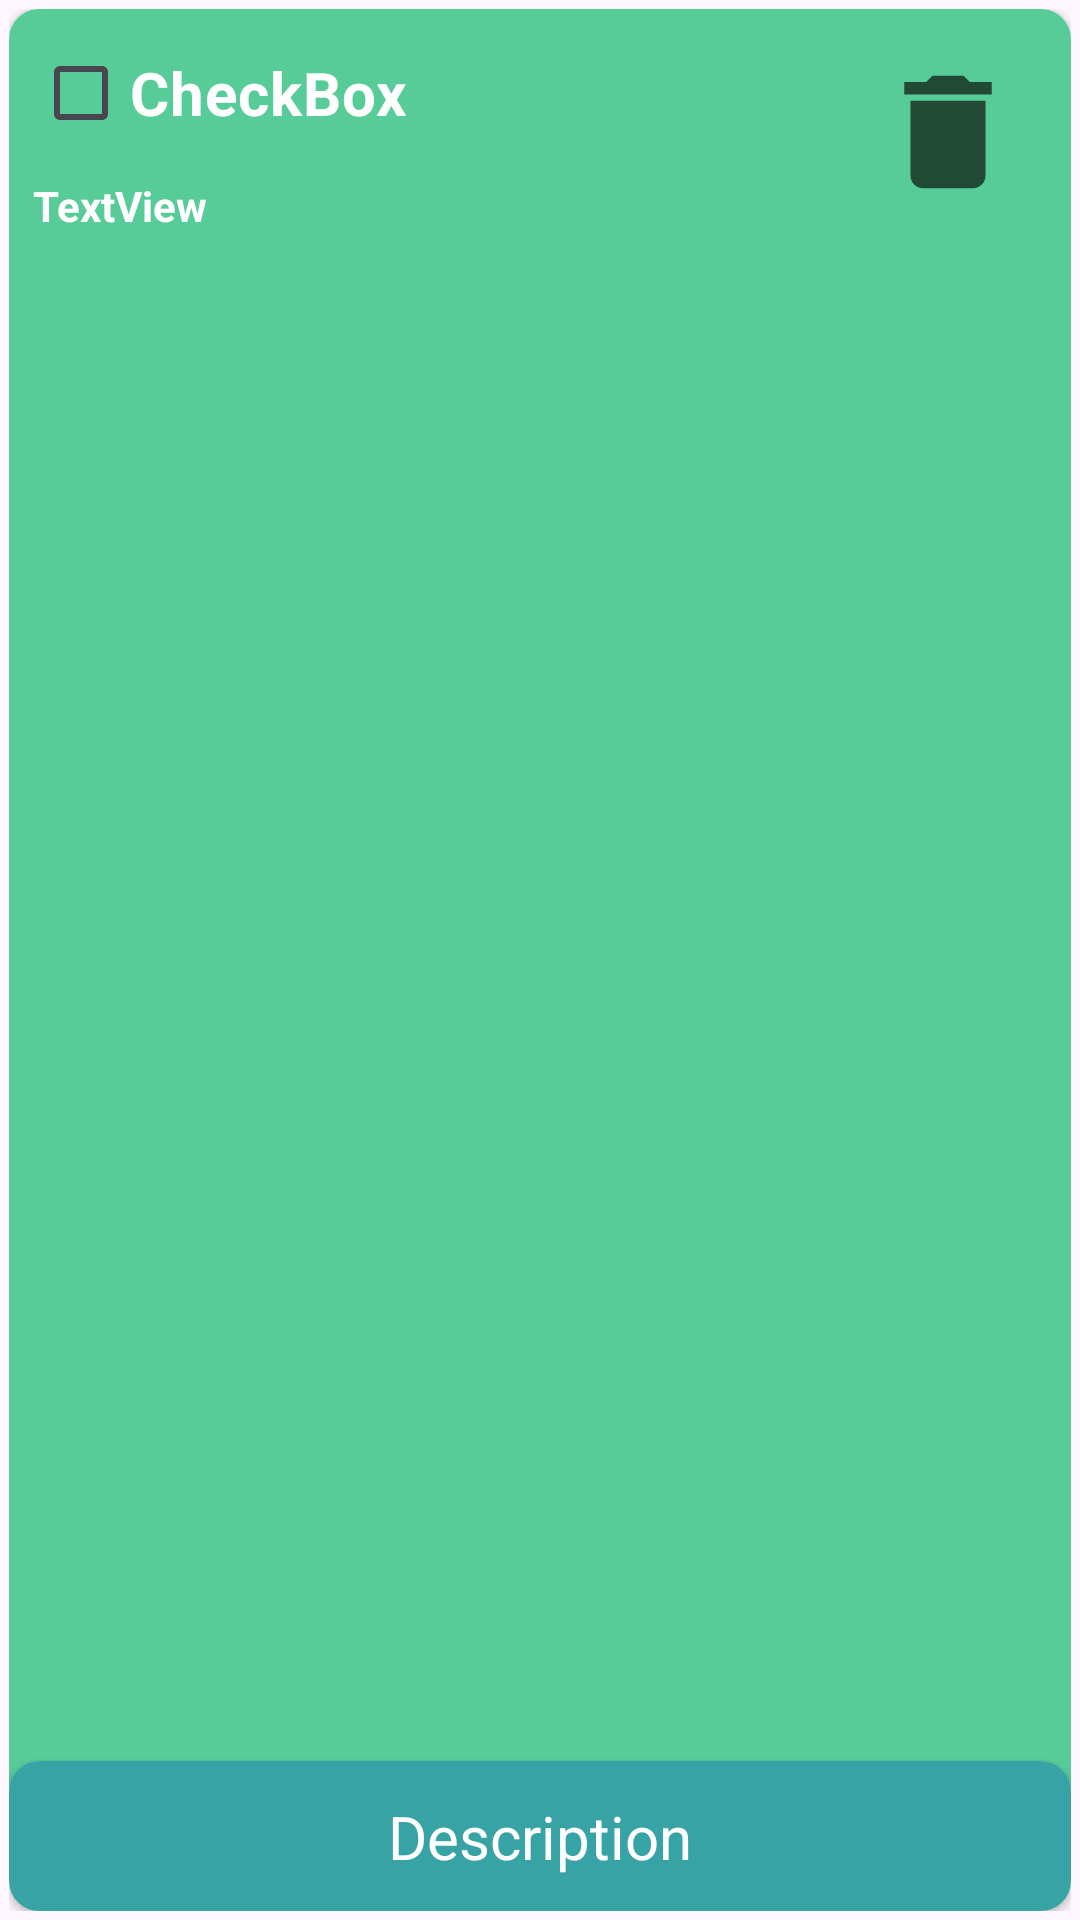

Icons on this 1080px×1920px Android screen, each with its box as (x1, y1, x2, y2):
delete: (904, 75, 992, 189)
